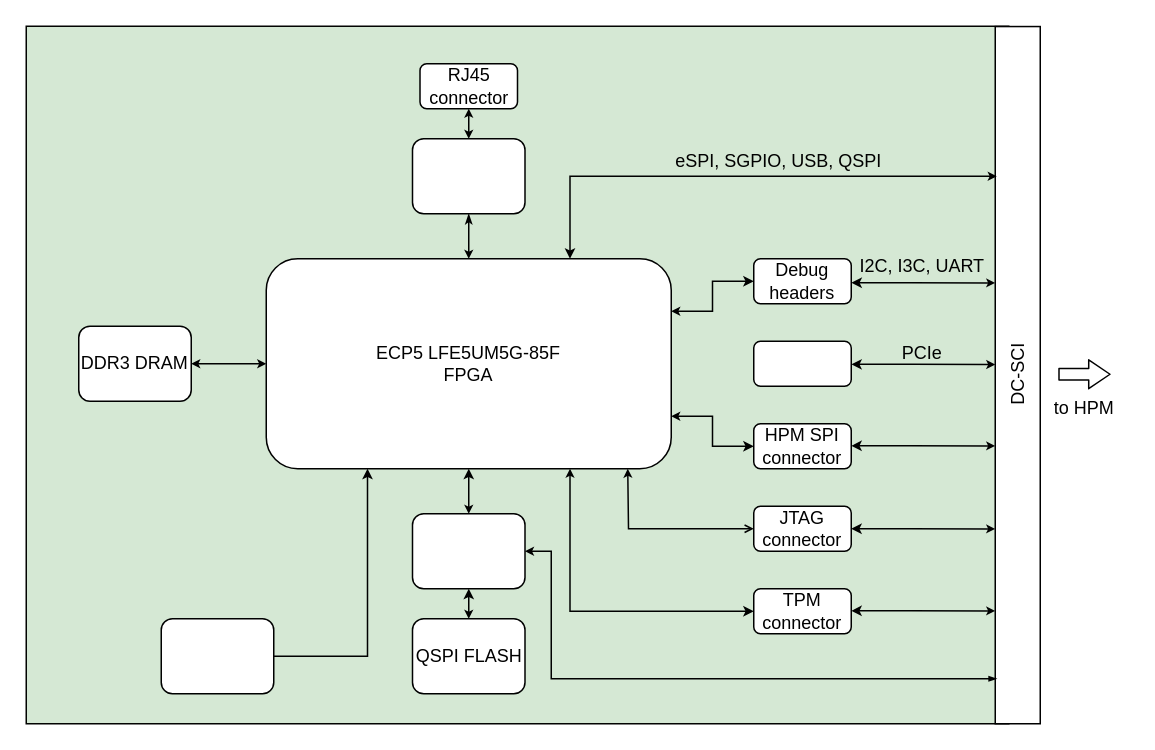
This 1155x750 diagram has some shape labels left out. Each missing label, with the centre of its shape:
"M.2 connector" goes at [801,363].
"PHY" goes at [468,175].
"Power supply" goes at [217,655].
"RoT" goes at [468,550].
